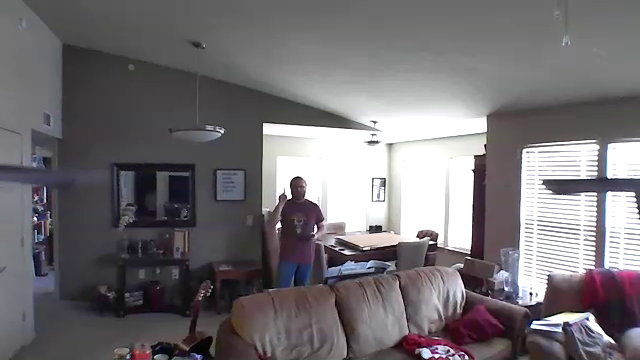up: (277, 188, 288, 204)
